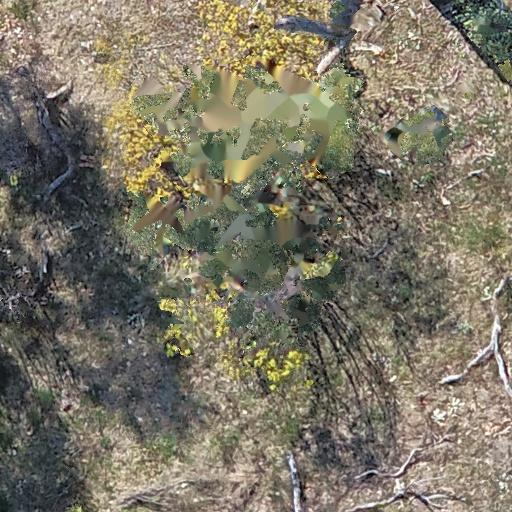stone: (58, 398, 72, 410), (418, 394, 428, 406), (462, 140, 474, 150)
